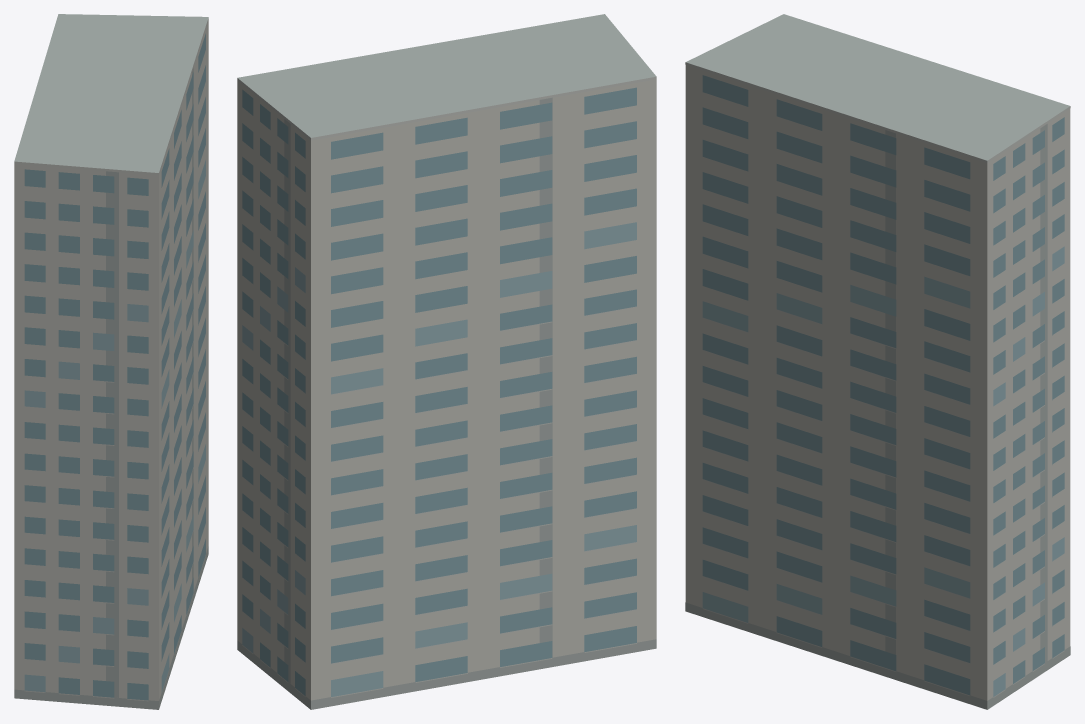
The model's file is residential-635002ab-f29a-4bb7-9736-f760a617a5d2.glb.
The picture shows the model from 3 angles, left to right: view 1: azimuth 30°, elevation 25°; view 2: azimuth 150°, elevation 25°; view 3: azimuth 270°, elevation 25°; orthographic projection. The views are drawn at different scales.
Visible parts, largest first — view 1: residential-635002ab-f29a-4bb7-9736-f760a617a5d2.tmp; view 2: residential-635002ab-f29a-4bb7-9736-f760a617a5d2.tmp; view 3: residential-635002ab-f29a-4bb7-9736-f760a617a5d2.tmp.
Part boxes in pixels (x1,y1,x2,y2): residential-635002ab-f29a-4bb7-9736-f760a617a5d2.tmp: (14,14,208,709); residential-635002ab-f29a-4bb7-9736-f760a617a5d2.tmp: (237,14,656,709); residential-635002ab-f29a-4bb7-9736-f760a617a5d2.tmp: (685,14,1070,709).
Size of the model in its own units: 30.96 by 54 by 34.32.
